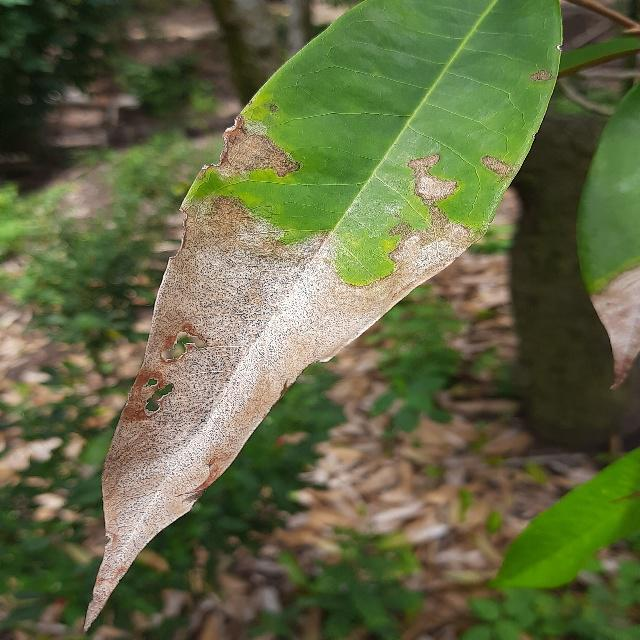Leaf Blight: (79, 0, 575, 635)
